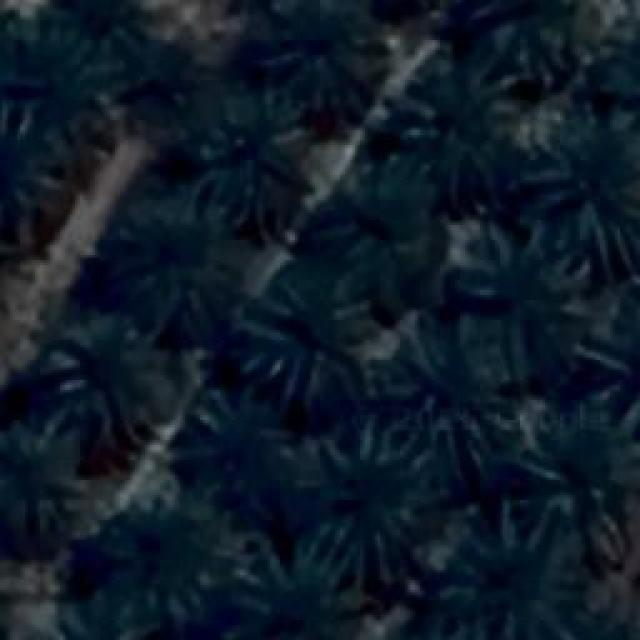PalmTree: (35, 70, 622, 111), (110, 46, 520, 92), (81, 502, 211, 640), (520, 116, 640, 259), (428, 540, 598, 640), (326, 161, 434, 304), (109, 188, 224, 322), (260, 0, 380, 118), (55, 318, 175, 434), (322, 440, 426, 572), (187, 391, 295, 511), (458, 247, 562, 365), (390, 361, 490, 481), (528, 425, 636, 533), (400, 72, 502, 186), (0, 115, 80, 250), (266, 282, 352, 406), (0, 411, 78, 544), (212, 101, 296, 221), (248, 545, 350, 640), (0, 9, 92, 112), (122, 40, 212, 130), (587, 306, 640, 426), (54, 0, 140, 50), (569, 610, 640, 640)
